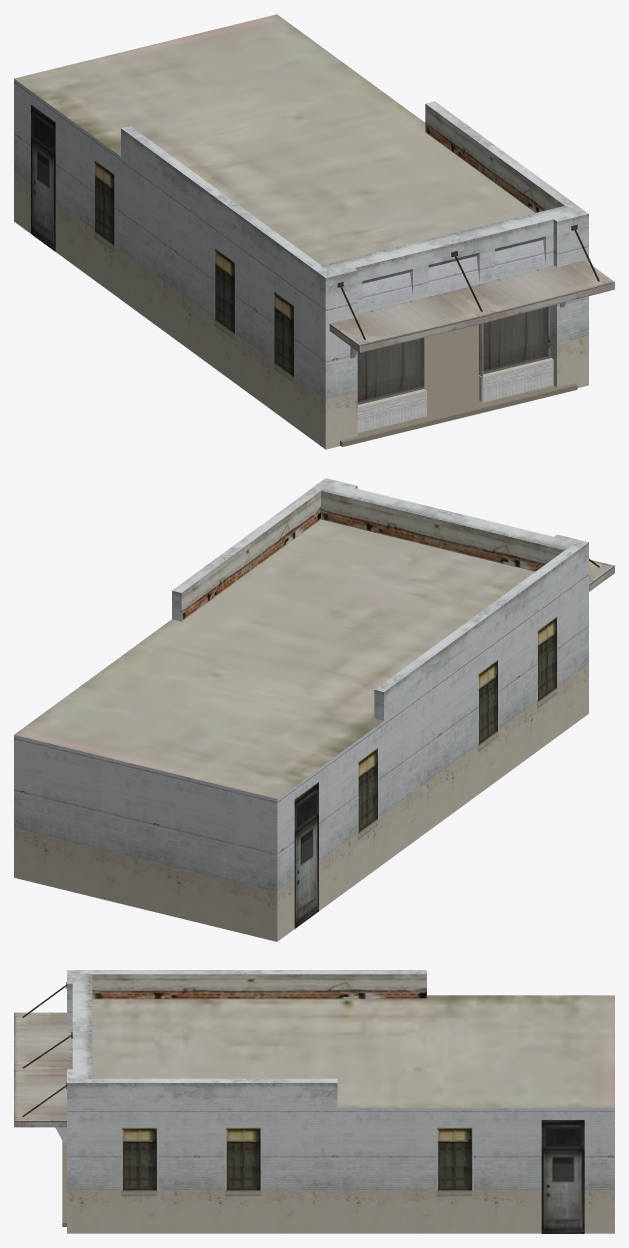
Rendered from rural-store-3.access-v2.lod0.glb.
3 views of the same model, one above another, from view 1: azimuth 30°, elevation 25°; view 2: azimuth 150°, elevation 25°; view 3: azimuth 270°, elevation 25° (orthographic). The views are drawn at different scales.
Parts seen in each view (by area): view 1: Rural_StoreSmall_3_Rural_Facade_FLR_2_0, Rural_StoreSmall_3_Rural_Midcity_Walls_FLR_1_0, Walkable floors and stairs; view 2: Rural_StoreSmall_3_Rural_Facade_FLR_2_0, Rural_StoreSmall_3_Rural_Midcity_Walls_FLR_1_0; view 3: Rural_StoreSmall_3_Rural_Facade_FLR_2_0, Rural_StoreSmall_3_Rural_Midcity_Walls_FLR_1_0, Walkable floors and stairs.
Boxes of the visible parts, x1,y1,x2,y2 form: Rural_StoreSmall_3_Rural_Facade_FLR_2_0: (14,14,614,404); Rural_StoreSmall_3_Rural_Midcity_Walls_FLR_1_0: (14,79,588,449); Walkable floors and stairs: (340,324,577,446); Rural_StoreSmall_3_Rural_Facade_FLR_2_0: (14,491,614,928); Rural_StoreSmall_3_Rural_Midcity_Walls_FLR_1_0: (14,478,588,941); Rural_StoreSmall_3_Rural_Facade_FLR_2_0: (14,974,614,1233); Rural_StoreSmall_3_Rural_Midcity_Walls_FLR_1_0: (55,970,614,1233); Walkable floors and stairs: (62,1141,66,1226).
Bounding box in the file's own units: 6.06 × 3.76 × 13.59.
3 materials, 2 textured.
